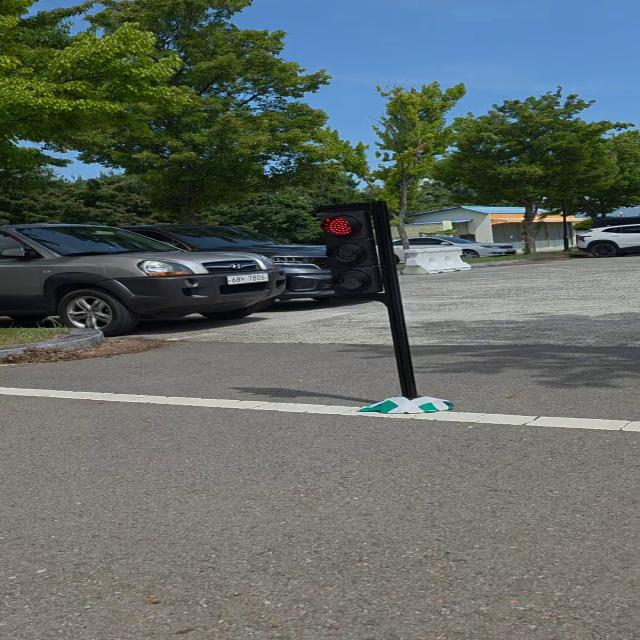red: (316, 203, 392, 299)
